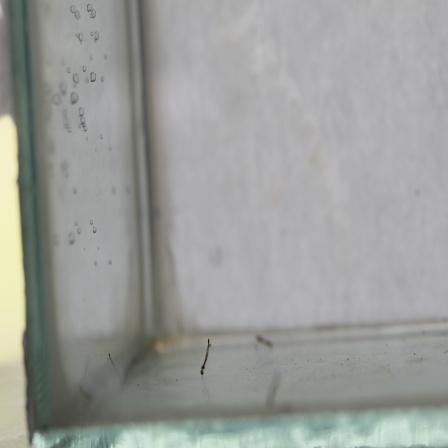Jentik-Nyamuk: (196, 336, 217, 380)
